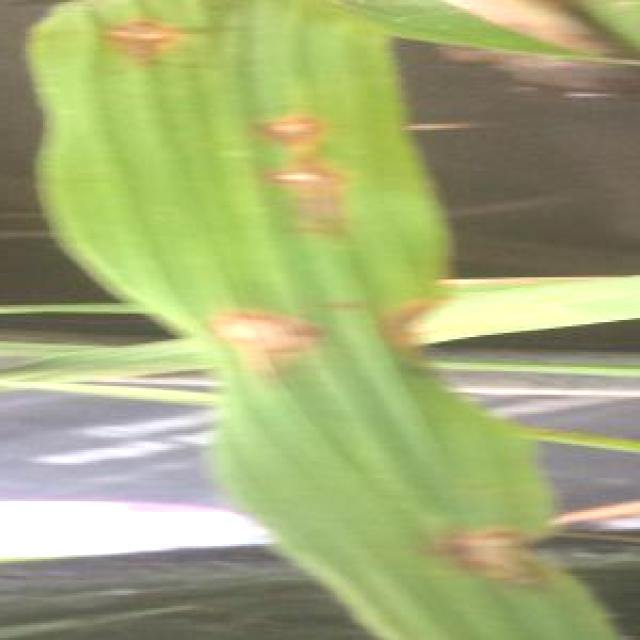Brown_Spot: (228, 100, 340, 232), (204, 301, 324, 367)
